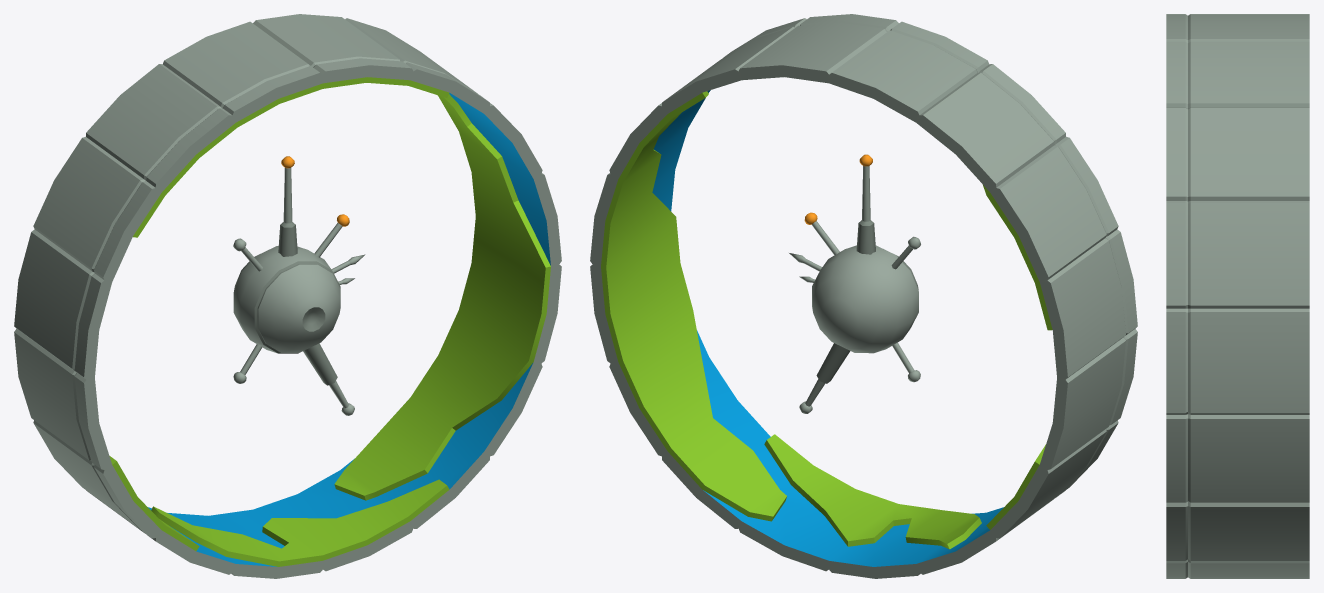
File: Tech_Planet_Halo.fbx
3 renders of one model, left to right at view 1: azimuth 30°, elevation 25°; view 2: azimuth 150°, elevation 25°; view 3: azimuth 270°, elevation 25°, orthographic. The views are drawn at different scales.
Parts seen in each view (by area): view 1: Planet_Halo_Mesh; view 2: Planet_Halo_Mesh; view 3: Planet_Halo_Mesh.
Boxes of the visible parts, x1,y1,x2,y2 form: Planet_Halo_Mesh: (14,14,561,578); Planet_Halo_Mesh: (590,14,1137,578); Planet_Halo_Mesh: (1166,14,1309,578).
Bounding box in the file's own units: 5.87 × 5.87 × 1.49.
